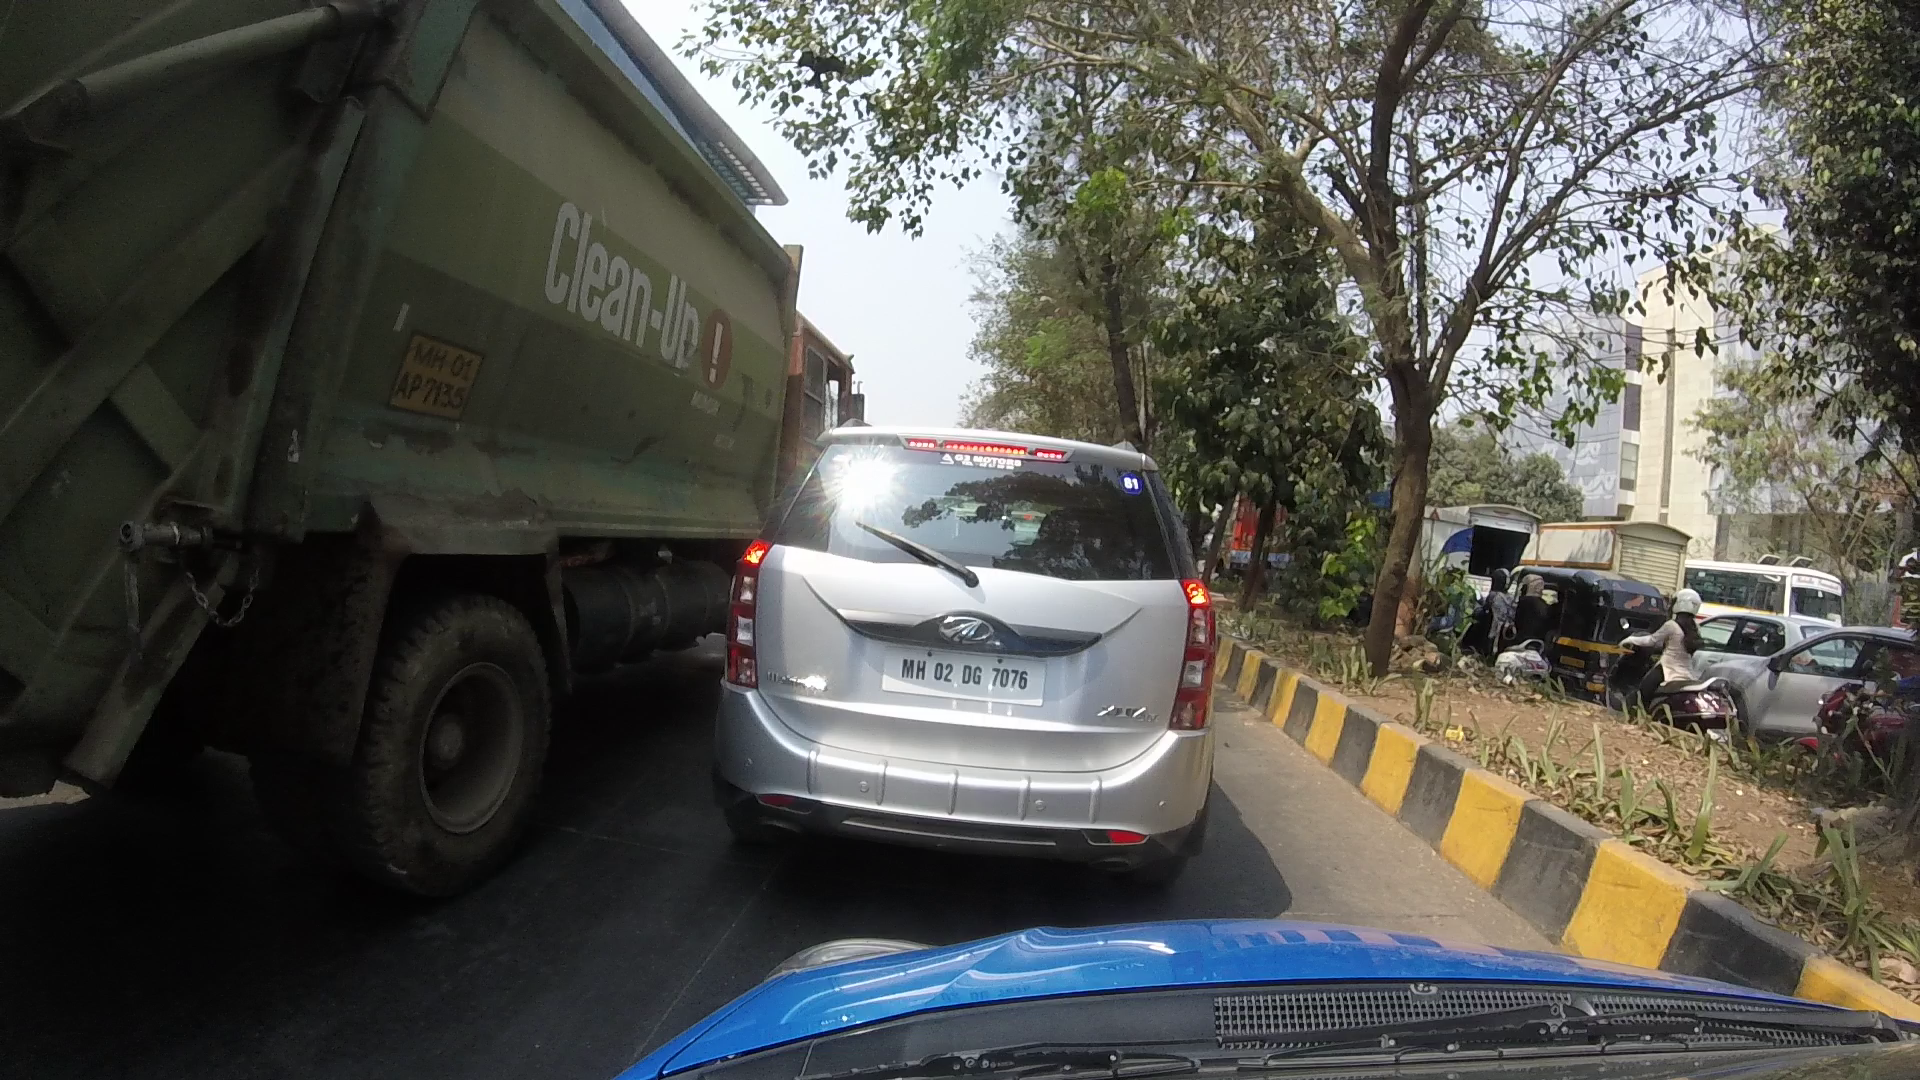bike/scooter: (1631, 578, 1737, 735), (1796, 676, 1920, 773)
bus: (1685, 535, 1855, 620)
car: (721, 384, 1233, 837), (1726, 630, 1920, 723)
rickshaw: (1513, 551, 1664, 678)
truck: (11, 7, 824, 807), (1542, 492, 1692, 593), (1425, 485, 1557, 589)
